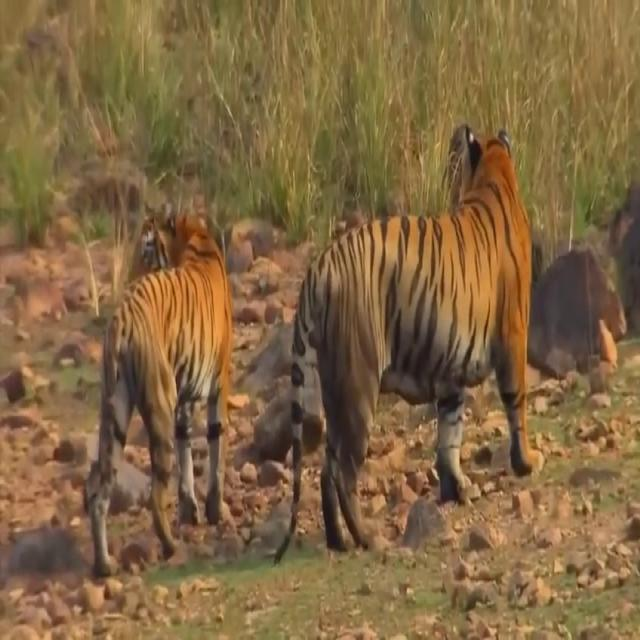tiger: (272, 124, 544, 564), (91, 201, 233, 574)
